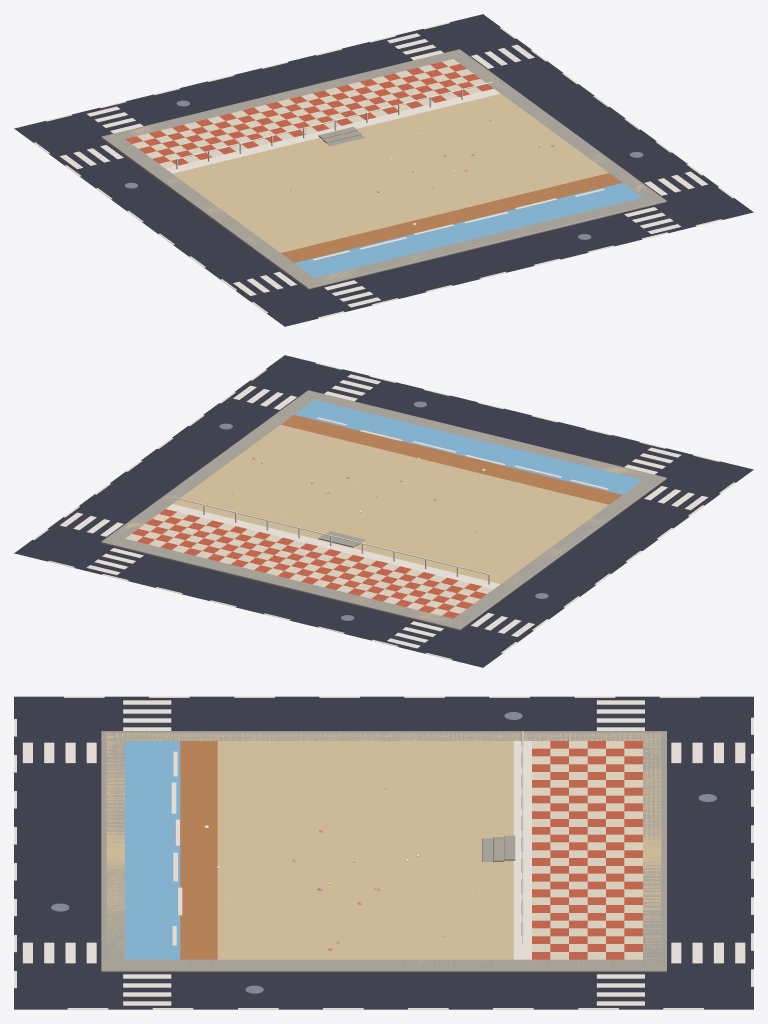
File: tile_beach.glb
3 renders of one model, top to bottom at view 1: azimuth 30°, elevation 25°; view 2: azimuth 150°, elevation 25°; view 3: azimuth 270°, elevation 25°, orthographic. The views are drawn at different scales.
Visible parts, largest first — view 1: tile_beach; view 2: tile_beach; view 3: tile_beach.
Boxes of the visible parts, left/top/right/bottom form: tile_beach: left=14, top=14, right=753, bottom=326; tile_beach: left=14, top=355, right=753, bottom=667; tile_beach: left=14, top=696, right=753, bottom=1009.
Size of the model in its own units: 40 by 1.04 by 40.
1 material, 1 textured.
